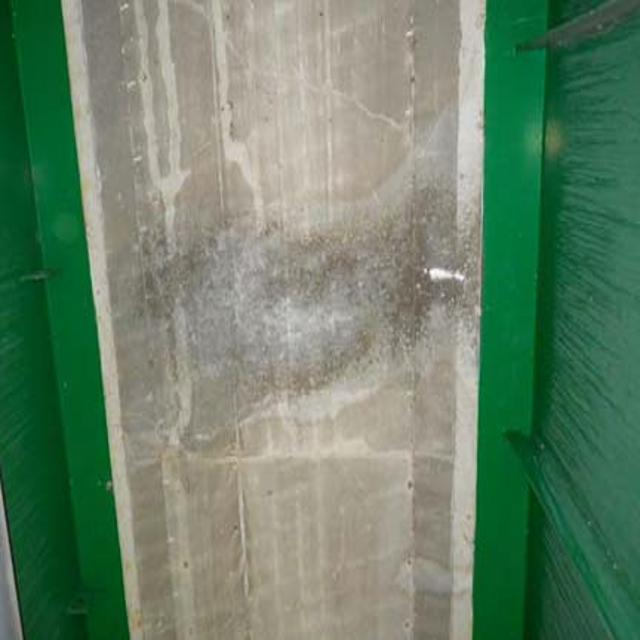leakage: (126, 220, 467, 419)
